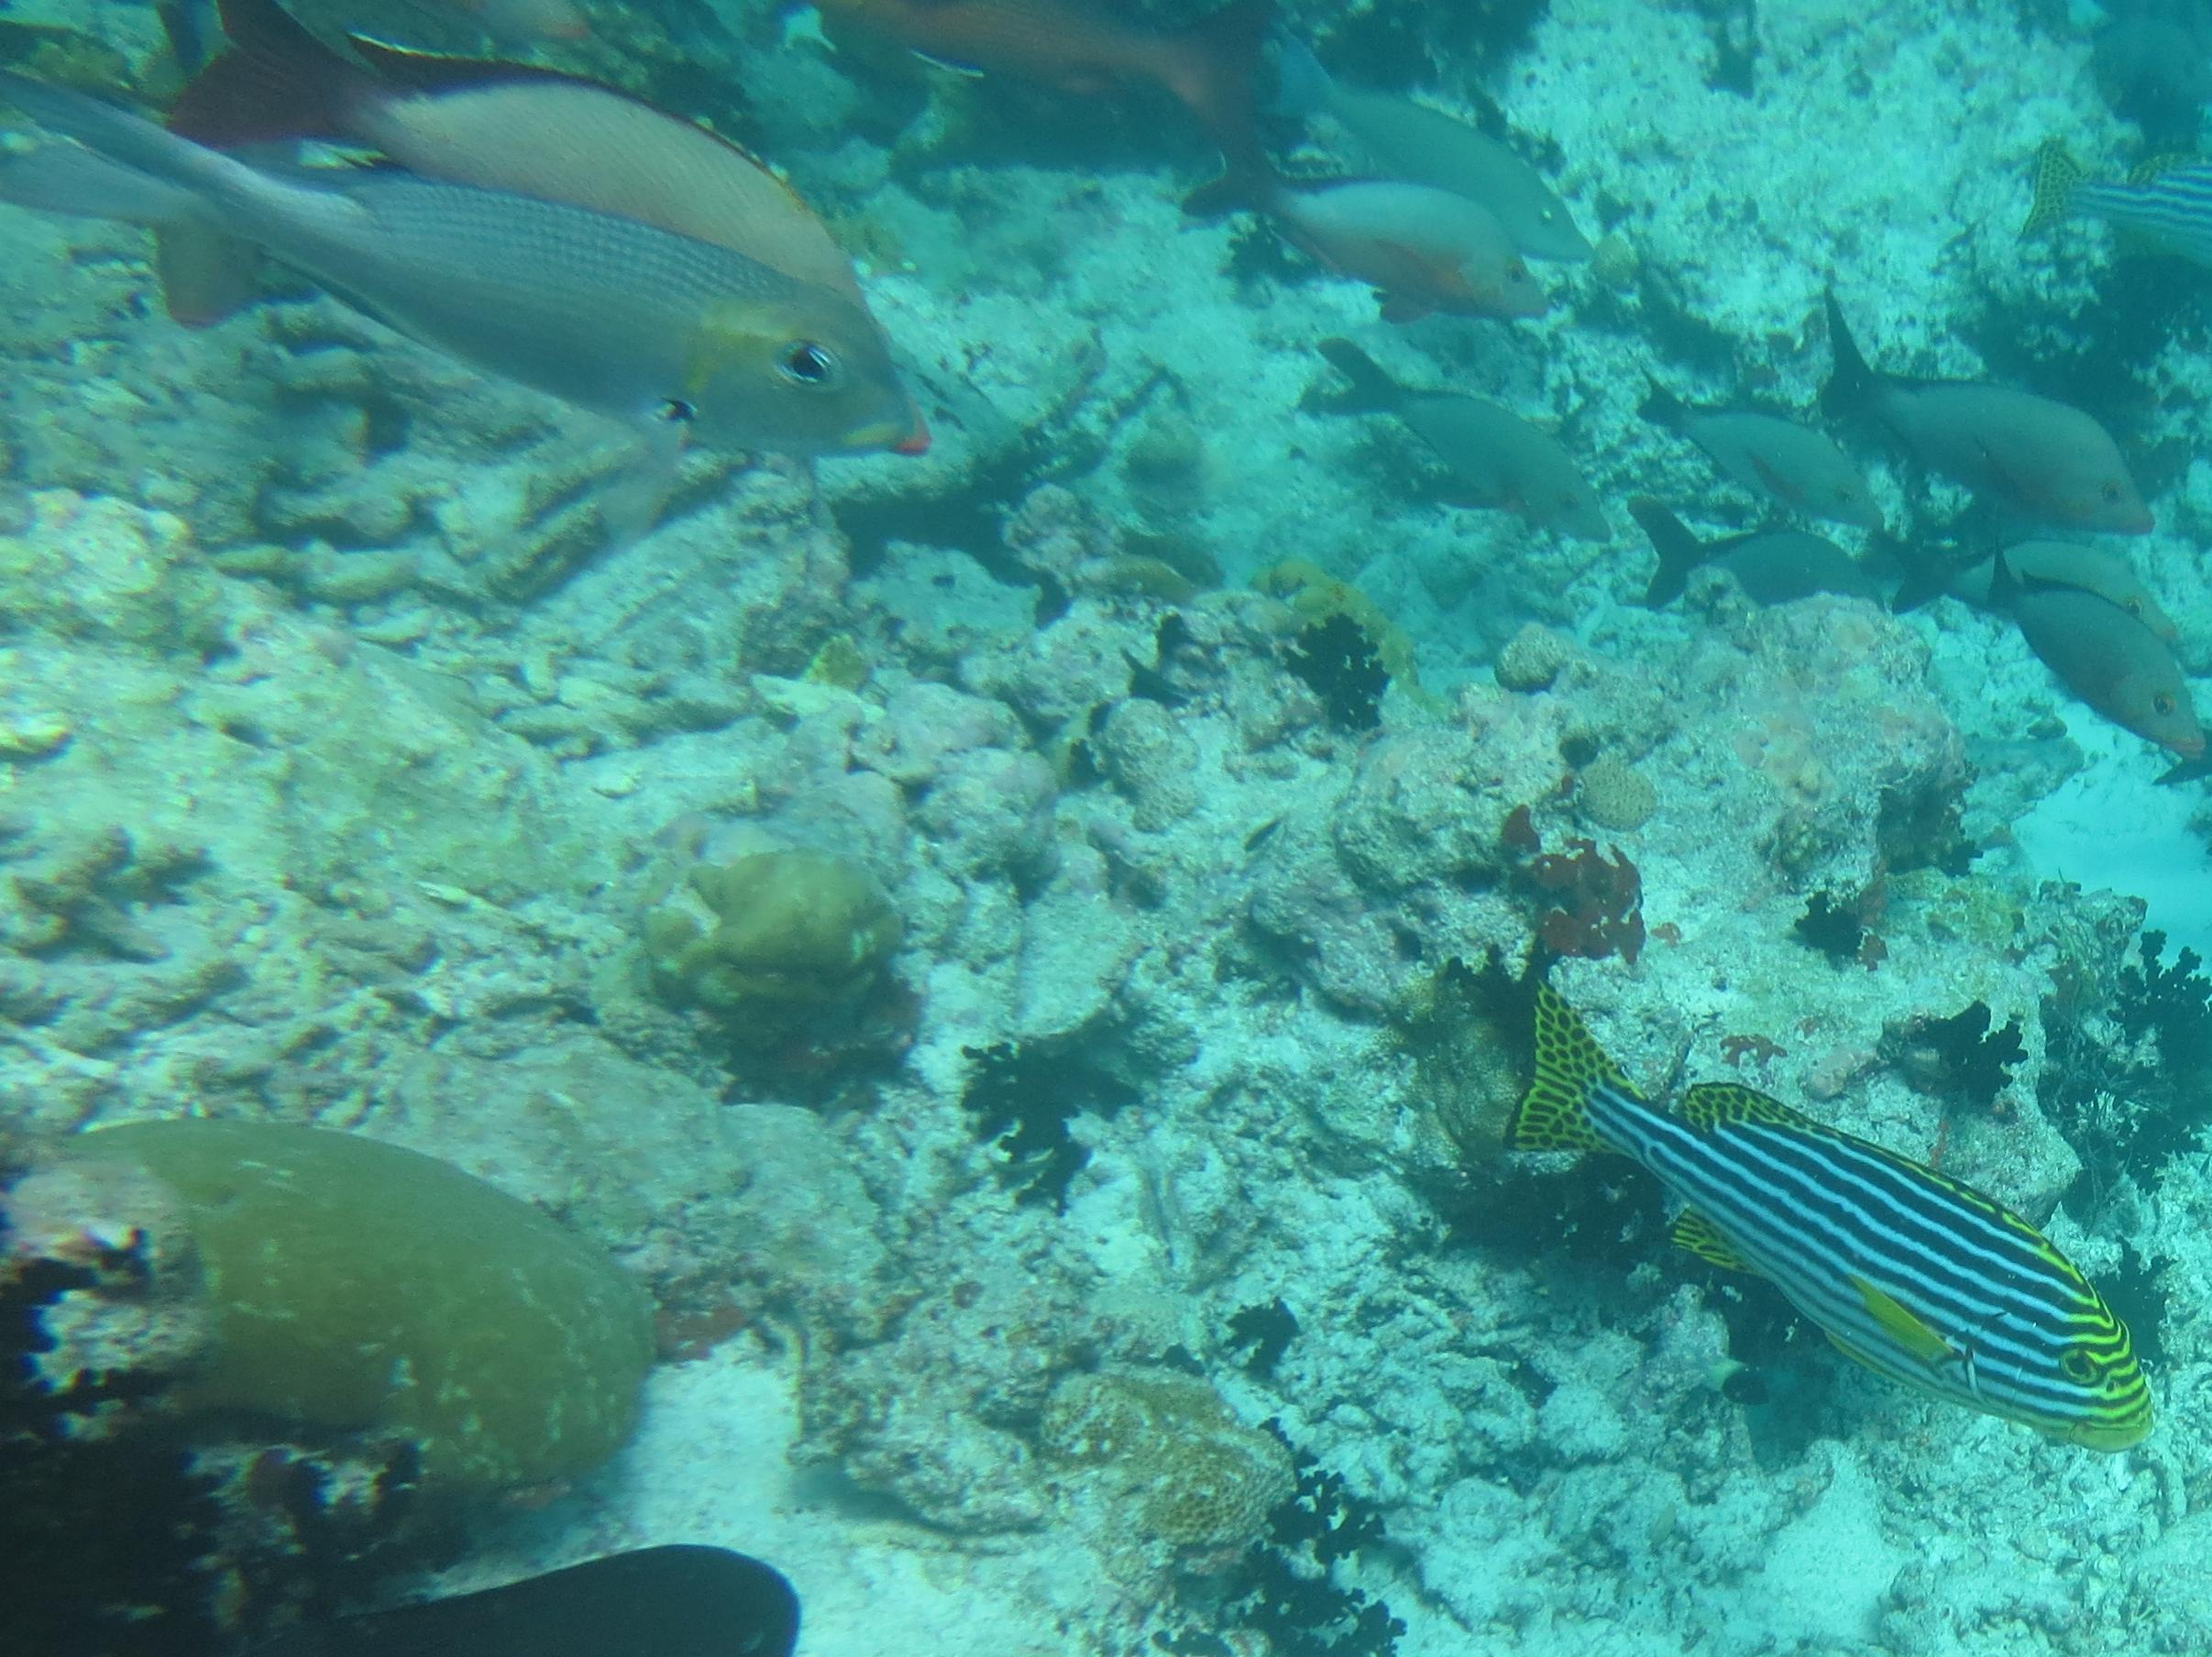Fish: (1507, 969, 2167, 1466)
